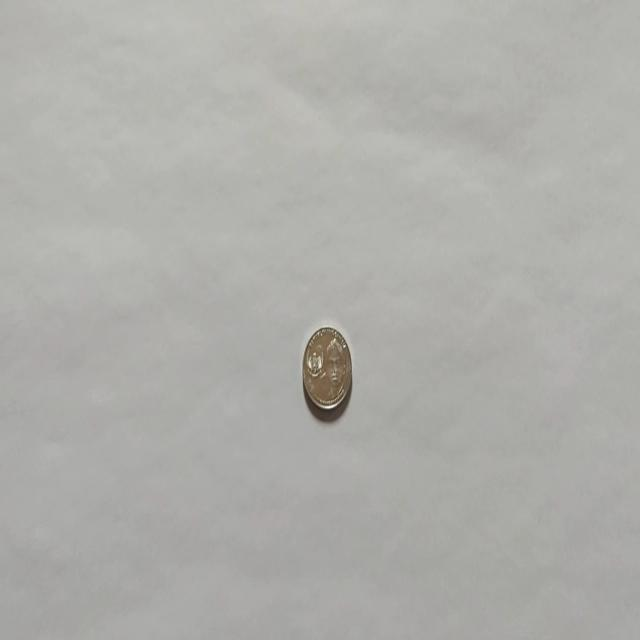dua ratus rupiah: (302, 324, 352, 412)
